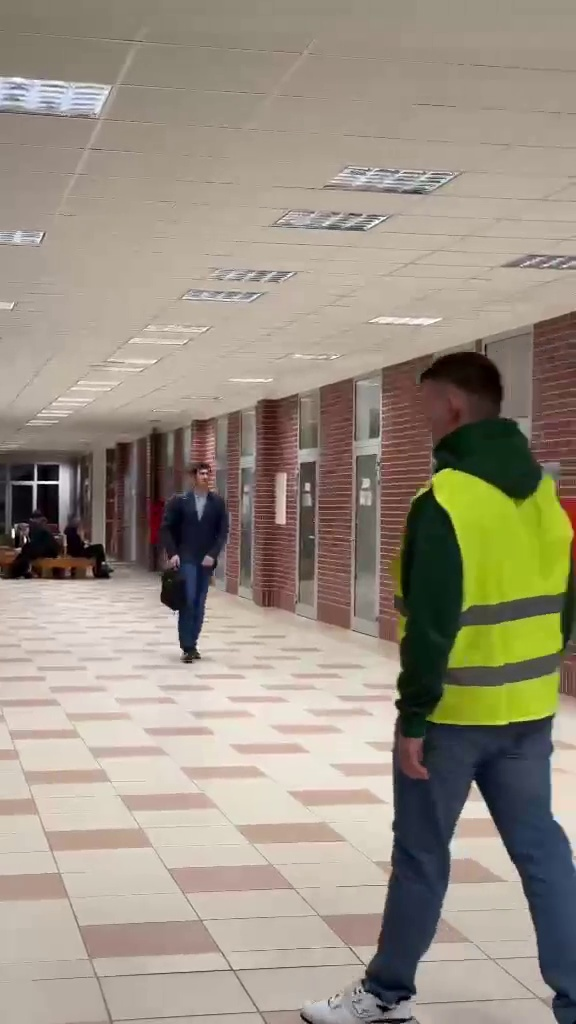no vest: (153, 461, 230, 660)
vest: (327, 344, 576, 1021)
